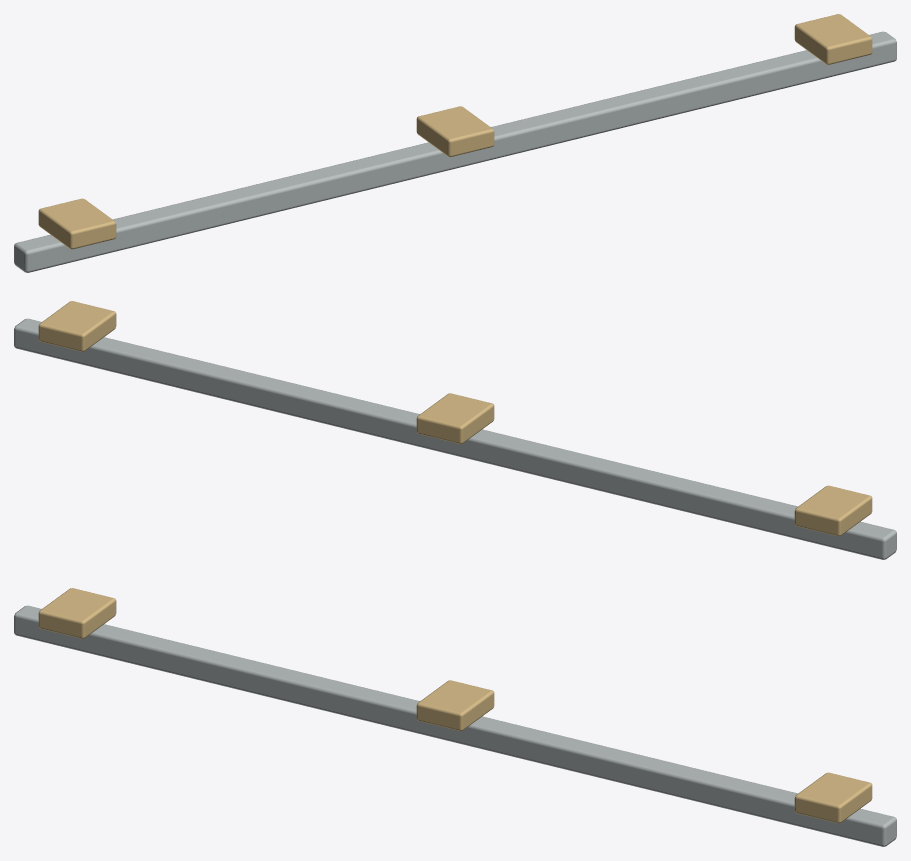
Rendered from abandoned-cinema-and-projection-booth-abandoned-cinema-83a32d88__29704.glb.
3 renders of one model, top to bottom at view 1: azimuth 30°, elevation 25°; view 2: azimuth 150°, elevation 25°; view 3: azimuth 330°, elevation 25°, orthographic.
Visible parts, largest first — view 1: abandoned-cinema-and-projection-booth-curtain-track; view 2: abandoned-cinema-and-projection-booth-curtain-track; view 3: abandoned-cinema-and-projection-booth-curtain-track.
Part boxes in pixels (<box>): abandoned-cinema-and-projection-booth-curtain-track: <box>14,14,896,272</box>; abandoned-cinema-and-projection-booth-curtain-track: <box>14,301,896,559</box>; abandoned-cinema-and-projection-booth-curtain-track: <box>14,588,896,846</box>.
Bounding box in the file's own units: 3 × 0.1351 × 0.2001.
